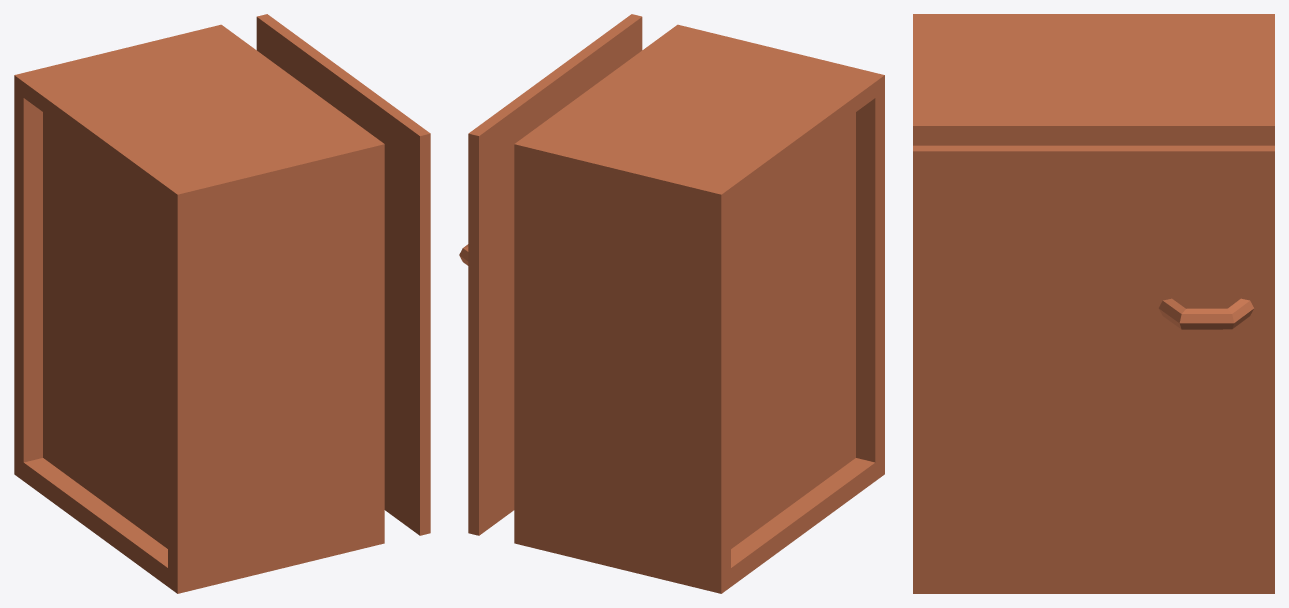
The model's file is komodestehend.fbx.
3 renders of one model, left to right at view 1: azimuth 30°, elevation 25°; view 2: azimuth 150°, elevation 25°; view 3: azimuth 270°, elevation 25°, orthographic. The views are drawn at different scales.
Parts seen in each view (by area): view 1: Cube, Plane; view 2: Cube, Plane; view 3: Plane, Cube.
Boxes of the visible parts, x1,y1,x2,y2 form: Cube: [14, 24, 384, 593]; Plane: [256, 14, 430, 535]; Cube: [514, 24, 884, 593]; Plane: [459, 14, 642, 535]; Plane: [913, 145, 1274, 593]; Cube: [913, 14, 1274, 145].
Bounding box in the file's own units: 47.76 × 65 × 48.08.
